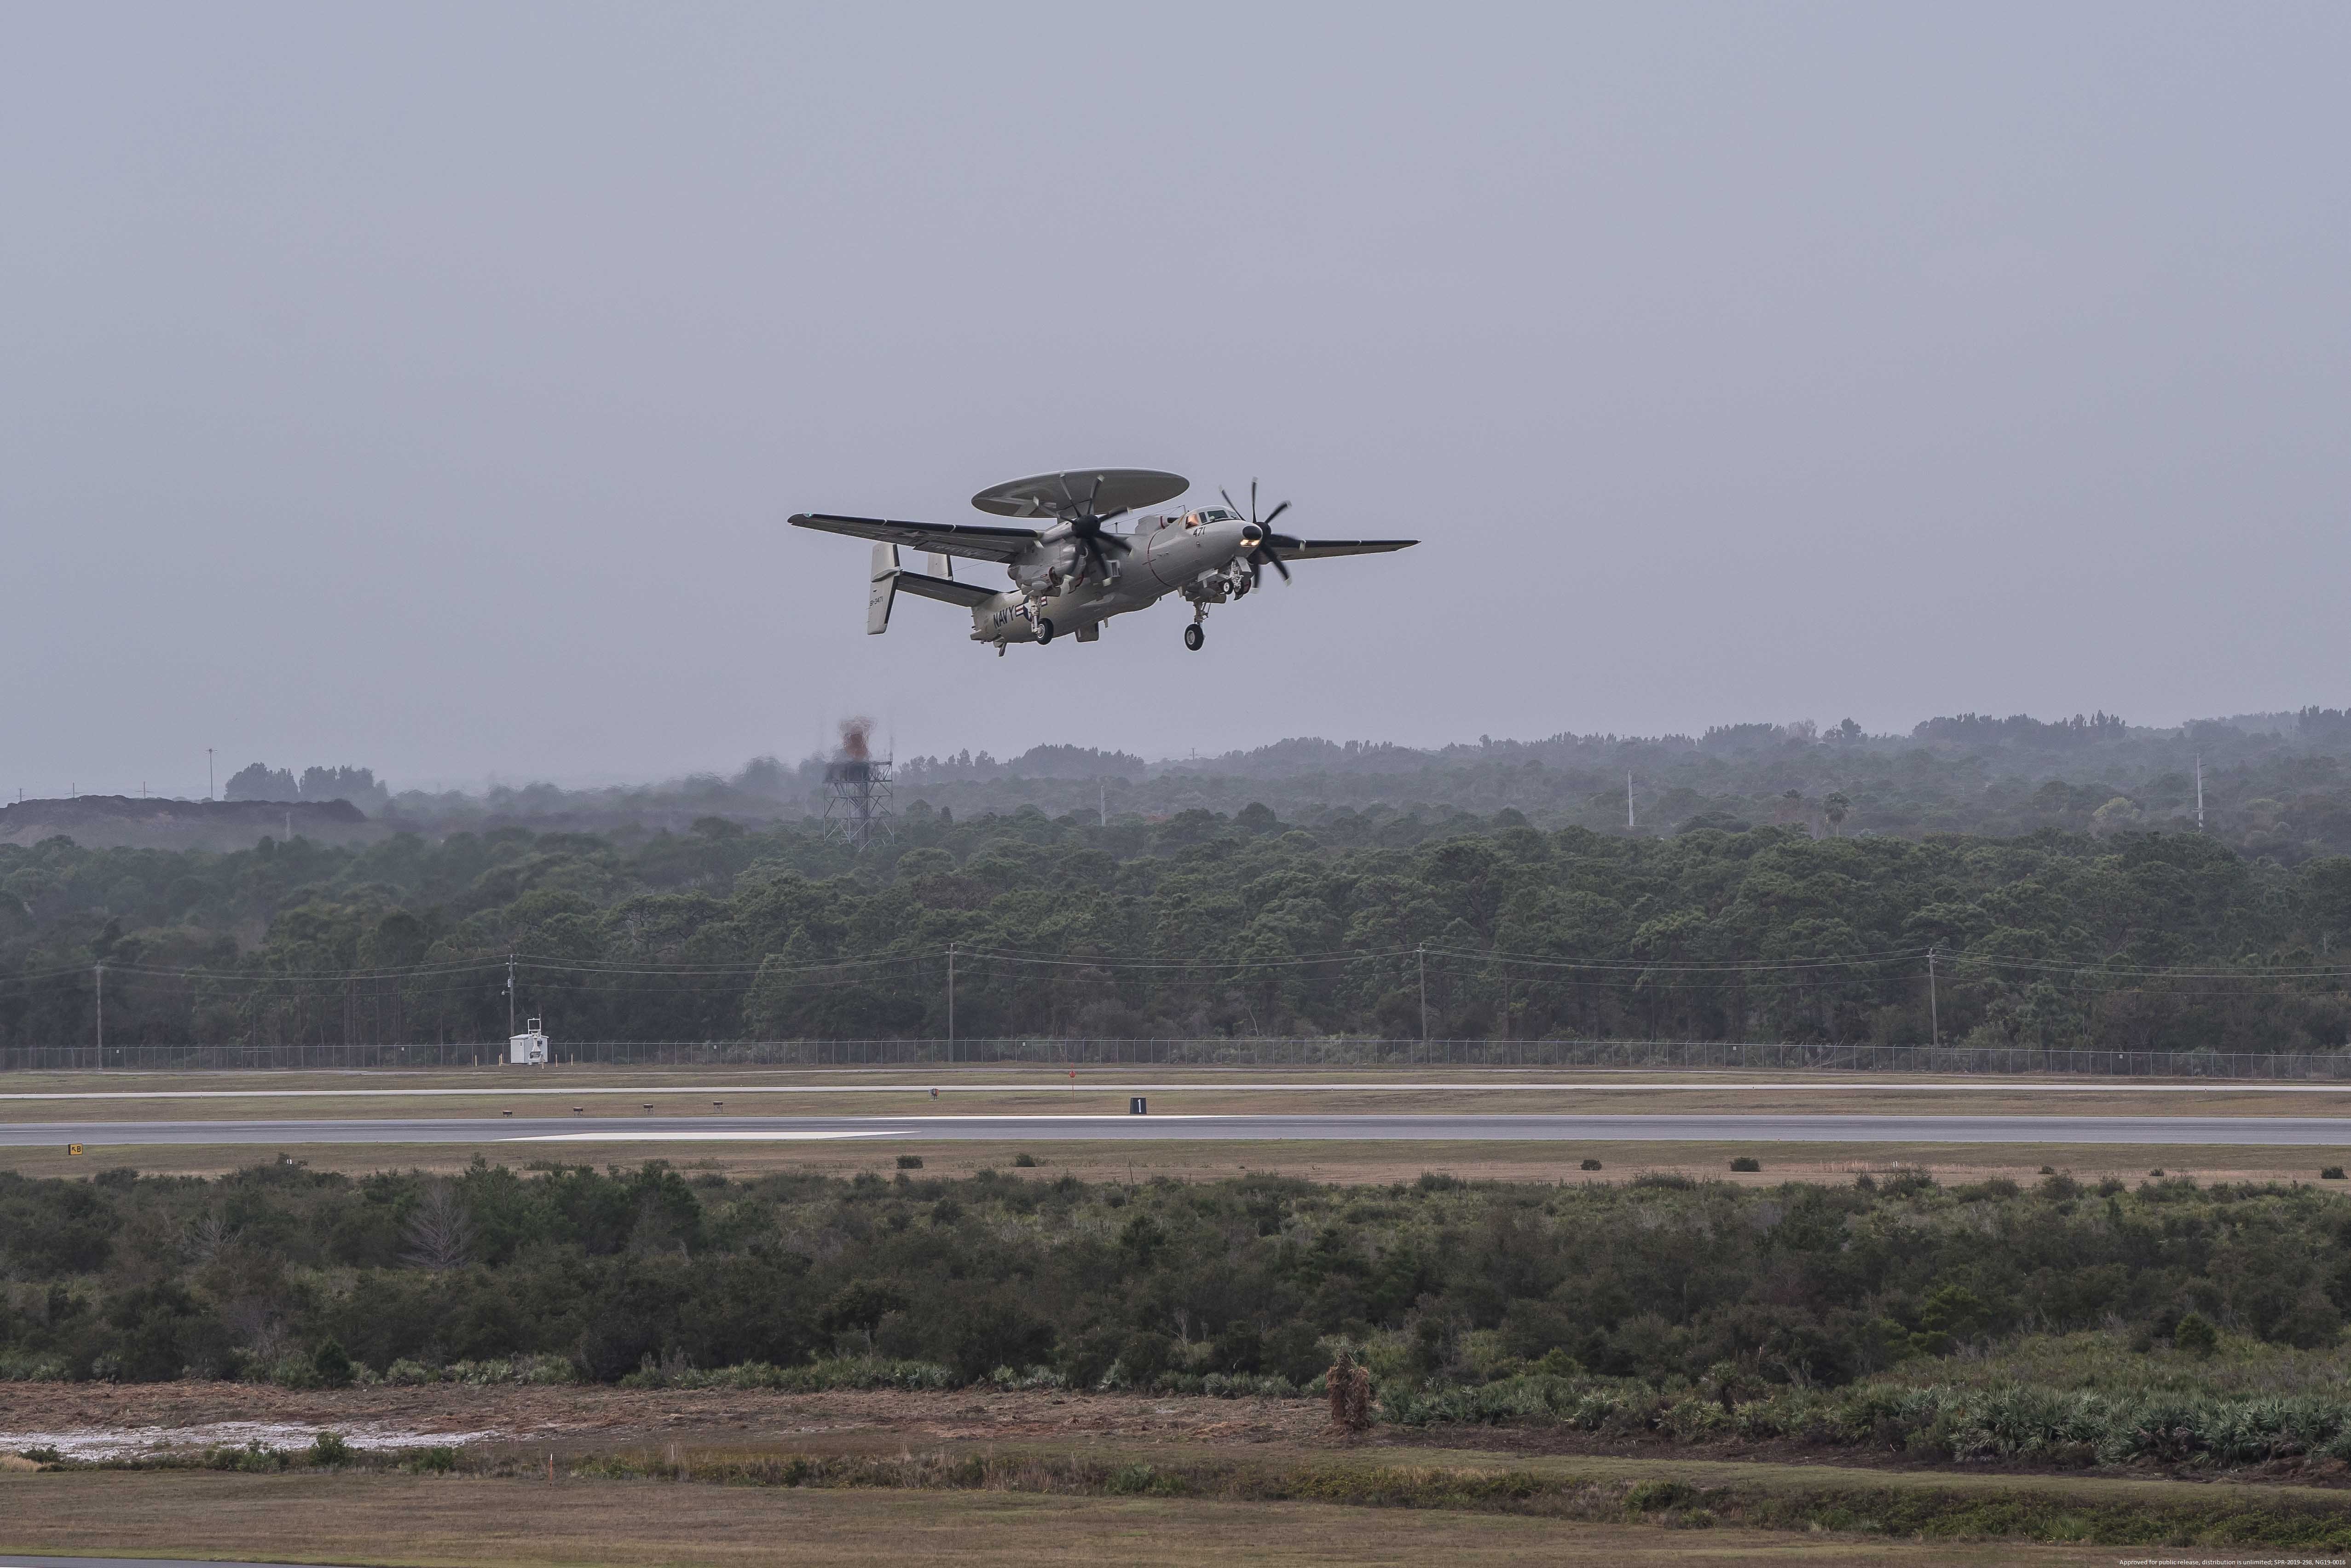E2: (788, 467, 1421, 656)
